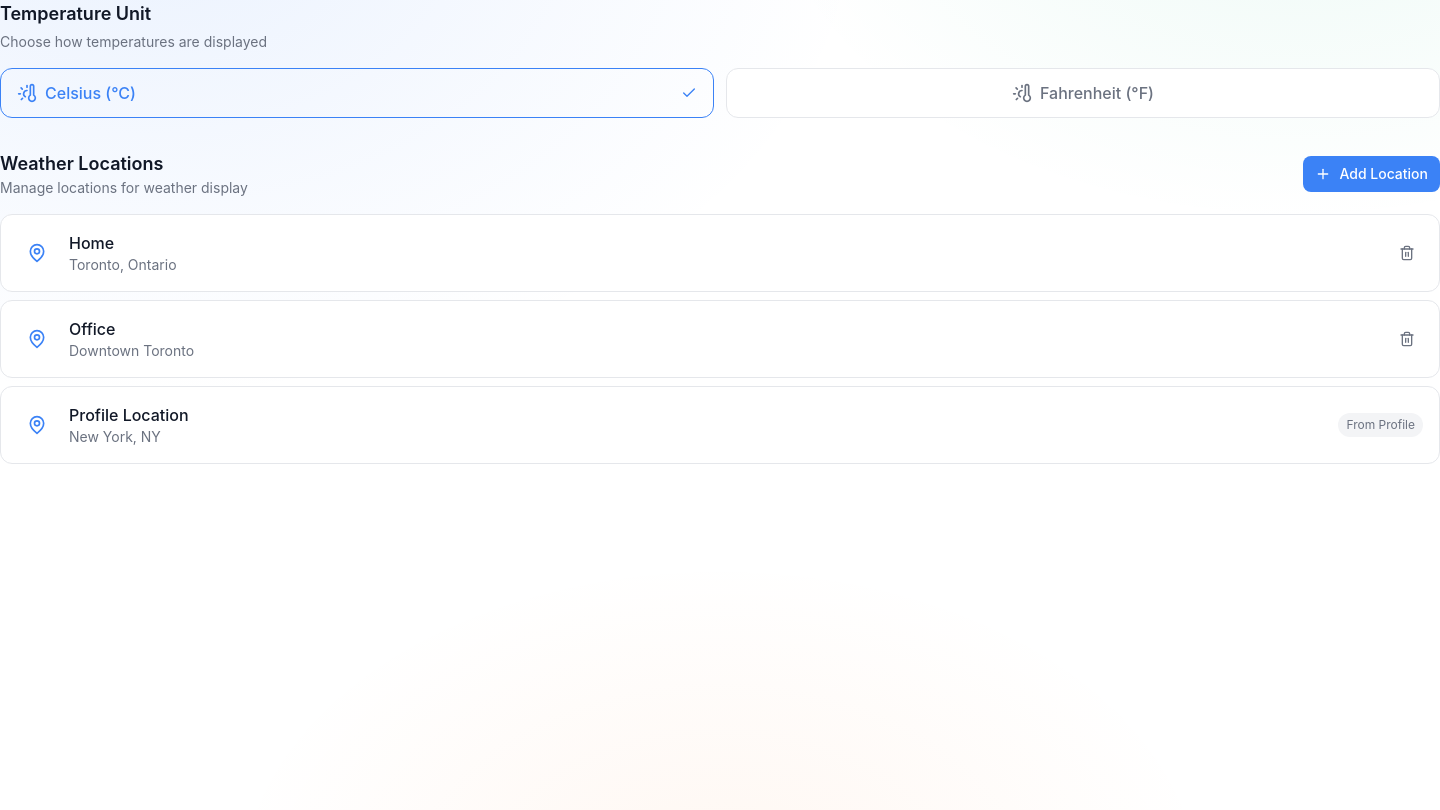
WeatherSettings › Add Location Modal › closes modal when clicking backdrop
Click the button "Add Location" at (1372, 174), box top-left (1303, 156), bottom-right (1439, 192)
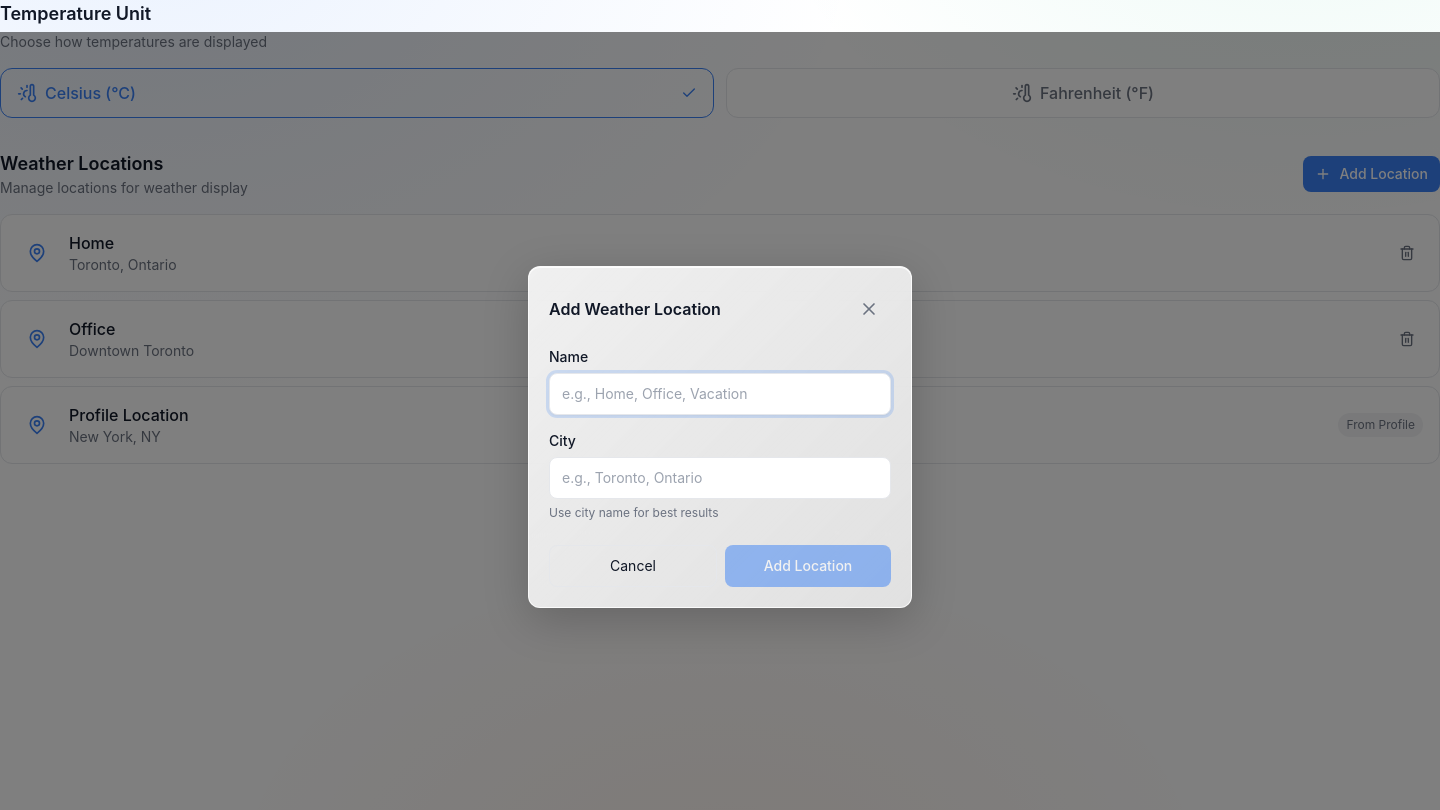
Click the element with class "inset-0" at (86, 421), box top-left (0, 32), bottom-right (1439, 809)
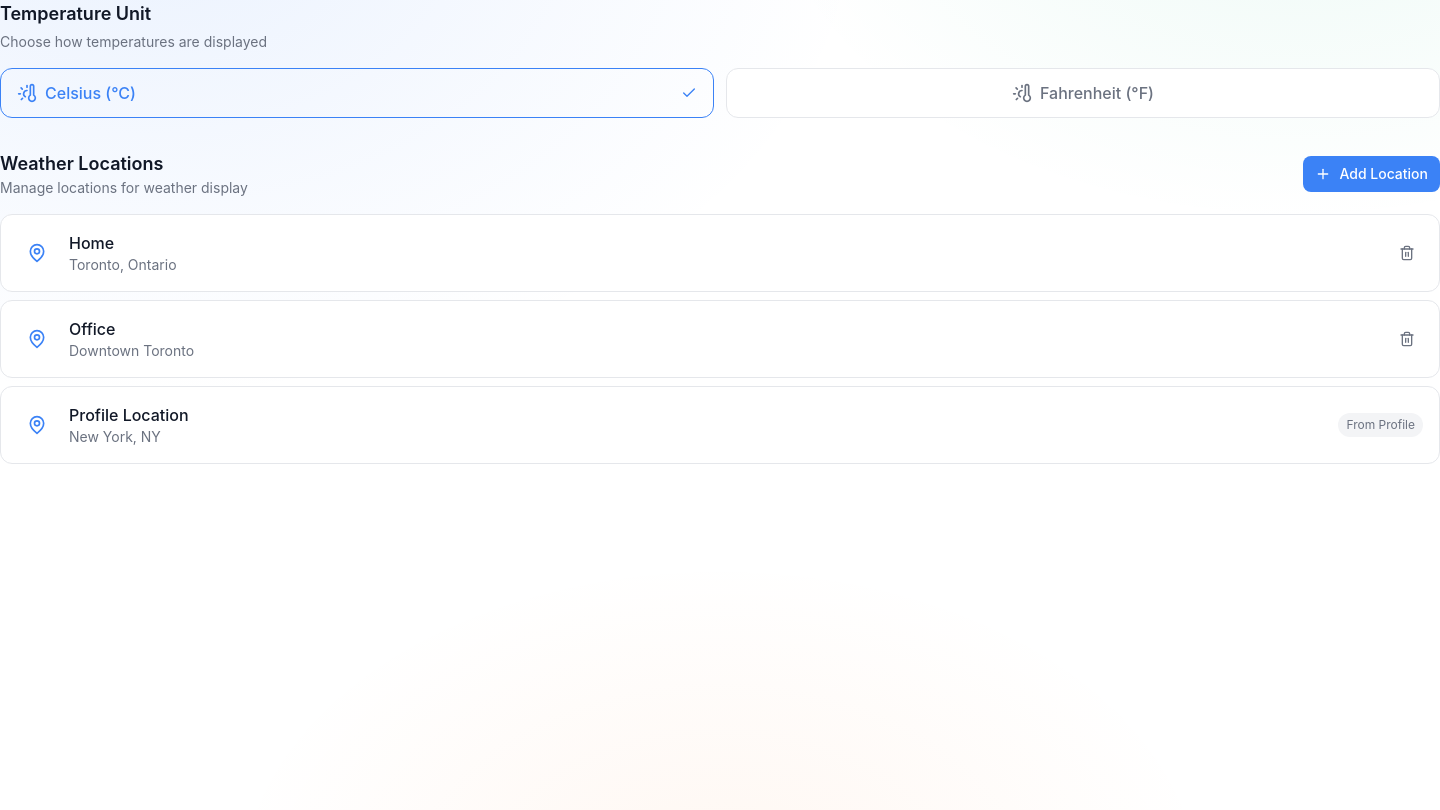
expect the heading "Add Weather Location" is gone: met
